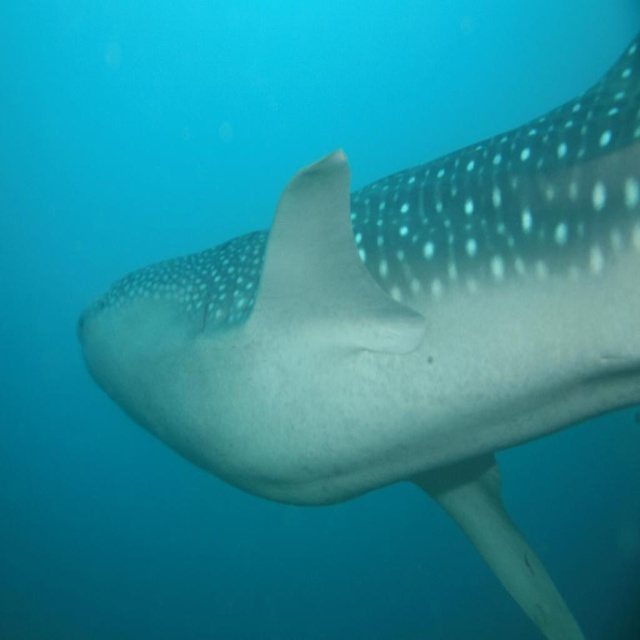Shark: (78, 28, 640, 639)
